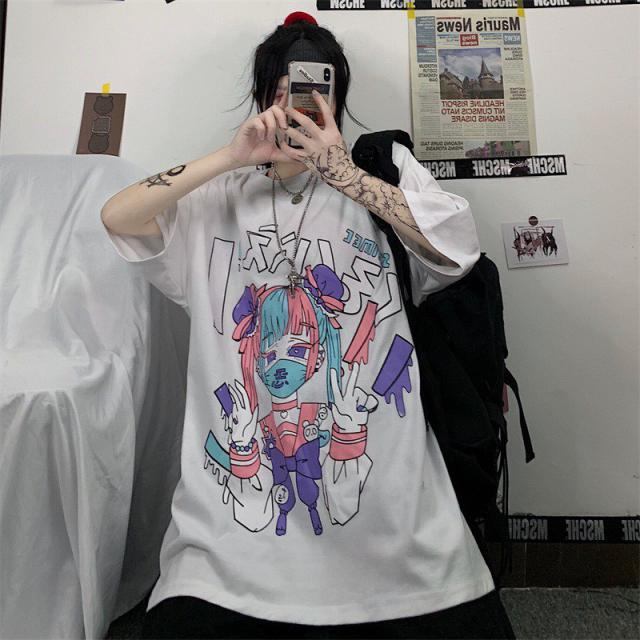Shirt: (113, 140, 484, 622)
